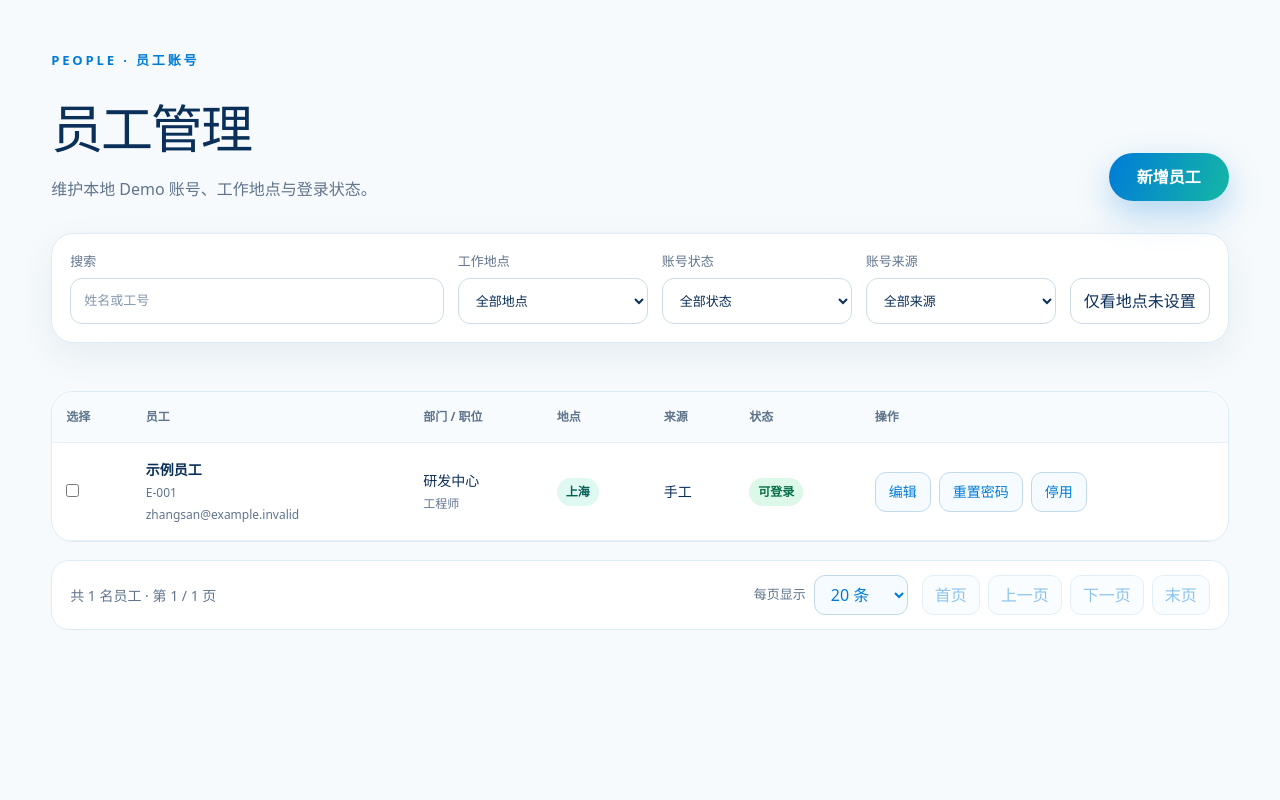
Scenario: employee password reset UI › shows a visible error for malformed employee-list reset responses
Click the button "重置密码".
click(981, 492)  # box left=939, top=472, right=1023, bottom=512
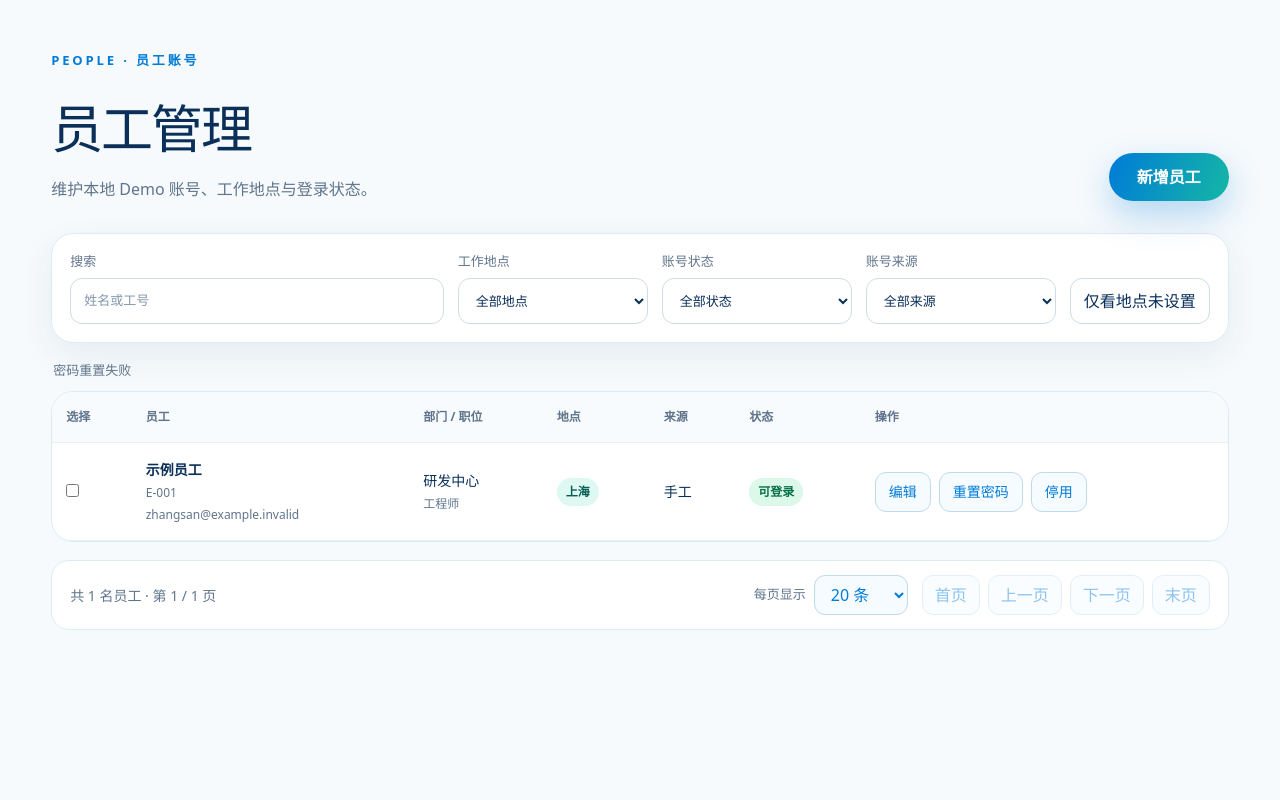
Expected: the text "密码重置失败" is shown, left=53, top=361, right=131, bottom=379
